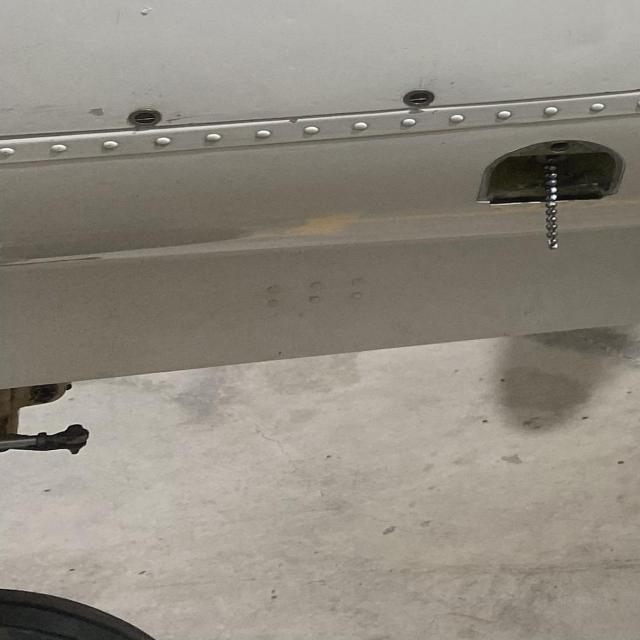Paint-off: (85, 106, 109, 118)
